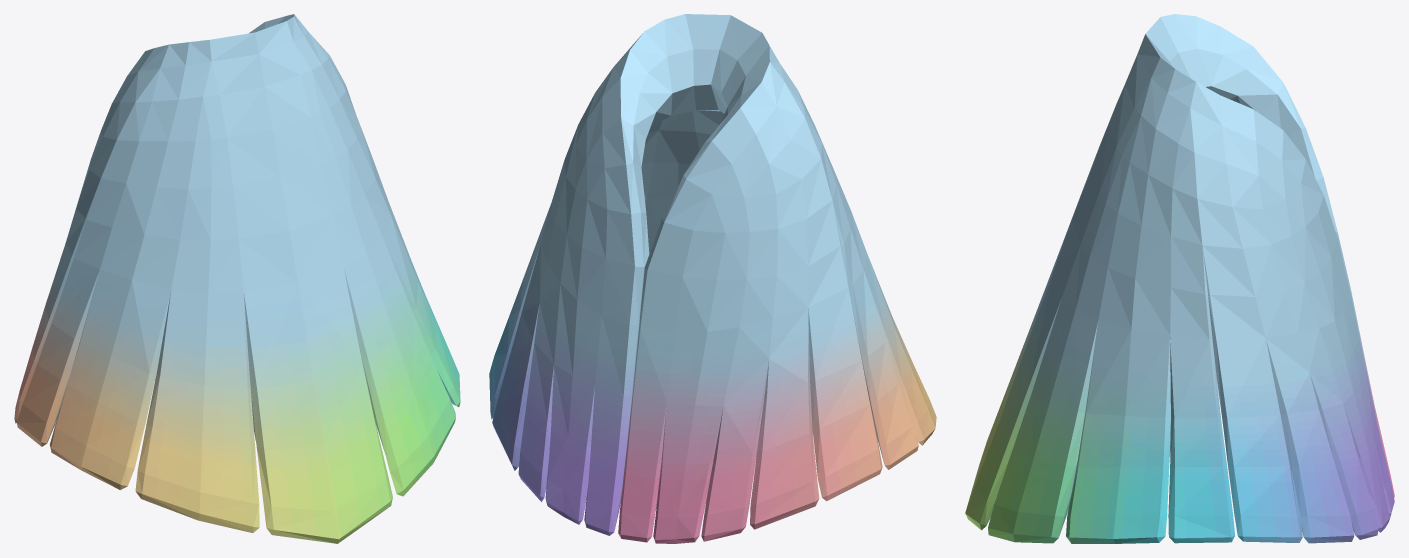
The model's file is CharSkyKid_Wing_Rainbow_01.glb.
3 views of the same model, side by side, from view 1: azimuth 30°, elevation 25°; view 2: azimuth 150°, elevation 25°; view 3: azimuth 270°, elevation 25° (orthographic). The views are drawn at different scales.
Visible parts, largest first — view 1: CharSkyKid_Wing_Rainbow_01; view 2: CharSkyKid_Wing_Rainbow_01; view 3: CharSkyKid_Wing_Rainbow_01.
Part boxes in pixels (x1,y1,x2,y2): CharSkyKid_Wing_Rainbow_01: (14,14,460,543); CharSkyKid_Wing_Rainbow_01: (489,14,936,543); CharSkyKid_Wing_Rainbow_01: (965,14,1394,543).
Bounding box in the file's own units: 6.47 × 6.93 × 5.56.
Materials: 1 (1 with a texture image).
